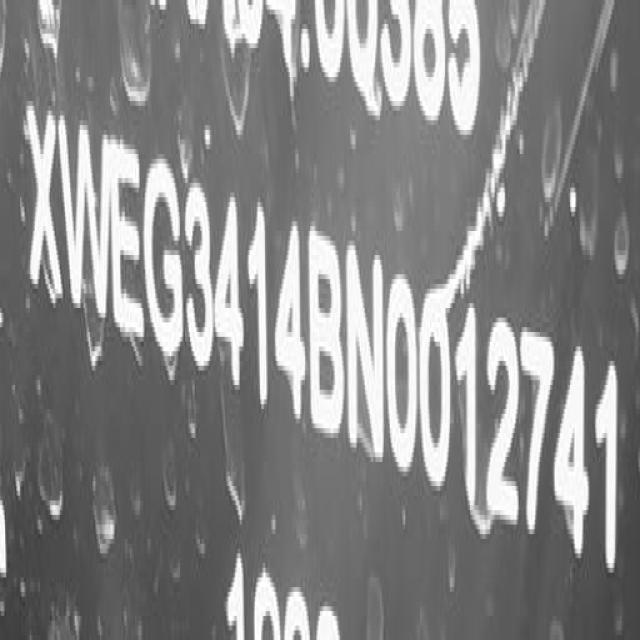0: (416, 292, 451, 498), (385, 268, 418, 472)
1: (592, 346, 622, 572), (247, 194, 272, 413), (454, 302, 481, 504)
2: (485, 316, 520, 536)
3: (184, 182, 216, 374)
4: (552, 344, 591, 549), (212, 185, 244, 398), (274, 212, 307, 417)
7: (520, 321, 554, 552)
B: (306, 228, 344, 449)
E: (110, 134, 146, 346)
G: (144, 151, 184, 353)
N: (343, 244, 385, 462)
W: (59, 108, 112, 332)
X: (25, 96, 63, 308)
